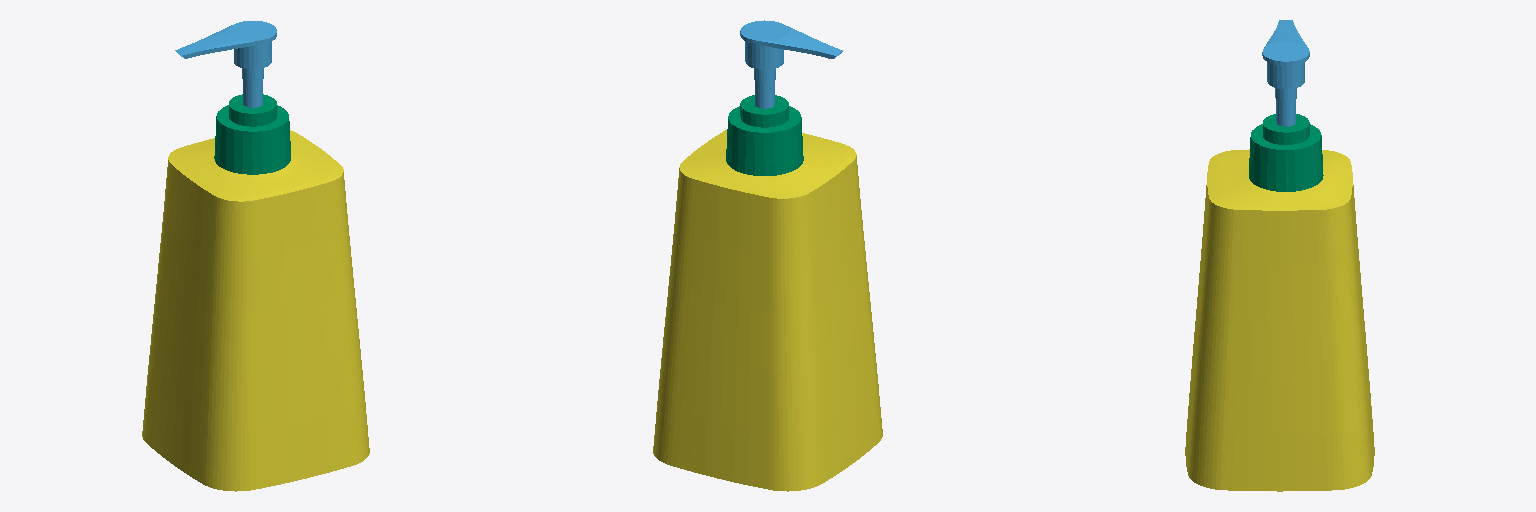
URDF robot description (partnet_2cb950b9-43d6-4d7d-8352-2f70c936dd6a):
<?xml version="1.0" ?>
<robot name="partnet_2cb950b9-43d6-4d7d-8352-2f70c936dd6a">
	<link name="base"/>
	<link name="link_0">
		<visual name="pressing_lid-1">
			<origin xyz="0.013220050530103724 0 0.00017385150868072866"/>
			<geometry>
				<mesh filename="textured_objs/original-12.obj"/>
			</geometry>
		</visual>
		<visual name="pressing_lid-1">
			<origin xyz="0.013220050530103724 0 0.00017385150868072866"/>
			<geometry>
				<mesh filename="textured_objs/original-13.obj"/>
			</geometry>
		</visual>
		<visual name="pressing_lid-1">
			<origin xyz="0.013220050530103724 0 0.00017385150868072866"/>
			<geometry>
				<mesh filename="textured_objs/original-14.obj"/>
			</geometry>
		</visual>
		<visual name="pressing_lid-1">
			<origin xyz="0.013220050530103724 0 0.00017385150868072866"/>
			<geometry>
				<mesh filename="textured_objs/original-15.obj"/>
			</geometry>
		</visual>
		<collision>
			<origin xyz="0.013220050530103724 0 0.00017385150868072866"/>
			<geometry>
				<mesh filename="textured_objs/original-12.obj"/>
			</geometry>
		</collision>
		<collision>
			<origin xyz="0.013220050530103724 0 0.00017385150868072866"/>
			<geometry>
				<mesh filename="textured_objs/original-13.obj"/>
			</geometry>
		</collision>
		<collision>
			<origin xyz="0.013220050530103724 0 0.00017385150868072866"/>
			<geometry>
				<mesh filename="textured_objs/original-14.obj"/>
			</geometry>
		</collision>
		<collision>
			<origin xyz="0.013220050530103724 0 0.00017385150868072866"/>
			<geometry>
				<mesh filename="textured_objs/original-15.obj"/>
			</geometry>
		</collision>
	</link>
	<joint name="joint_0" type="continuous">
		<origin xyz="0.0 0 0.0"/>
		<axis xyz="0 1 0"/>
		<child link="link_0"/>
		<parent link="link_0_helper"/>
	</joint>
	<link name="link_1">
		<visual name="head-6">
			<origin xyz="0.013219967587296749 0 0.00017342195729570277"/>
			<geometry>
				<mesh filename="textured_objs/original-7.obj"/>
			</geometry>
		</visual>
		<visual name="head-6">
			<origin xyz="0.013219967587296749 0 0.00017342195729570277"/>
			<geometry>
				<mesh filename="textured_objs/original-9.obj"/>
			</geometry>
		</visual>
		<visual name="head-6">
			<origin xyz="0.013219967587296749 0 0.00017342195729570277"/>
			<geometry>
				<mesh filename="textured_objs/original-11.obj"/>
			</geometry>
		</visual>
		<visual name="head-6">
			<origin xyz="0.013219967587296749 0 0.00017342195729570277"/>
			<geometry>
				<mesh filename="textured_objs/original-10.obj"/>
			</geometry>
		</visual>
		<collision>
			<origin xyz="0.013219967587296749 0 0.00017342195729570277"/>
			<geometry>
				<mesh filename="textured_objs/original-7.obj"/>
			</geometry>
		</collision>
		<collision>
			<origin xyz="0.013219967587296749 0 0.00017342195729570277"/>
			<geometry>
				<mesh filename="textured_objs/original-9.obj"/>
			</geometry>
		</collision>
		<collision>
			<origin xyz="0.013219967587296749 0 0.00017342195729570277"/>
			<geometry>
				<mesh filename="textured_objs/original-11.obj"/>
			</geometry>
		</collision>
		<collision>
			<origin xyz="0.013219967587296749 0 0.00017342195729570277"/>
			<geometry>
				<mesh filename="textured_objs/original-10.obj"/>
			</geometry>
		</collision>
	</link>
	<joint name="joint_1" type="continuous">
		<origin xyz="0.0 0 0.0"/>
		<axis xyz="0 1 0"/>
		<child link="link_1"/>
		<parent link="link_1_helper"/>
	</joint>
	<link name="link_2">
		<visual name="base_body-7">
			<origin xyz="0 0 0"/>
			<geometry>
				<mesh filename="textured_objs/original-4.obj"/>
			</geometry>
		</visual>
		<visual name="base_body-7">
			<origin xyz="0 0 0"/>
			<geometry>
				<mesh filename="textured_objs/original-3.obj"/>
			</geometry>
		</visual>
		<visual name="base_body-7">
			<origin xyz="0 0 0"/>
			<geometry>
				<mesh filename="textured_objs/original-2.obj"/>
			</geometry>
		</visual>
		<visual name="base_body-7">
			<origin xyz="0 0 0"/>
			<geometry>
				<mesh filename="textured_objs/original-5.obj"/>
			</geometry>
		</visual>
		<visual name="base_body-7">
			<origin xyz="0 0 0"/>
			<geometry>
				<mesh filename="textured_objs/original-6.obj"/>
			</geometry>
		</visual>
		<visual name="base_body-7">
			<origin xyz="0 0 0"/>
			<geometry>
				<mesh filename="textured_objs/original-1.obj"/>
			</geometry>
		</visual>
		<collision>
			<origin xyz="0 0 0"/>
			<geometry>
				<mesh filename="textured_objs/original-4.obj"/>
			</geometry>
		</collision>
		<collision>
			<origin xyz="0 0 0"/>
			<geometry>
				<mesh filename="textured_objs/original-3.obj"/>
			</geometry>
		</collision>
		<collision>
			<origin xyz="0 0 0"/>
			<geometry>
				<mesh filename="textured_objs/original-2.obj"/>
			</geometry>
		</collision>
		<collision>
			<origin xyz="0 0 0"/>
			<geometry>
				<mesh filename="textured_objs/original-5.obj"/>
			</geometry>
		</collision>
		<collision>
			<origin xyz="0 0 0"/>
			<geometry>
				<mesh filename="textured_objs/original-6.obj"/>
			</geometry>
		</collision>
		<collision>
			<origin xyz="0 0 0"/>
			<geometry>
				<mesh filename="textured_objs/original-1.obj"/>
			</geometry>
		</collision>
	</link>
	<joint name="joint_2" type="fixed">
		<origin rpy="1.570796326794897 0 -1.570796326794897" xyz="0 0 0"/>
		<child link="link_2"/>
		<parent link="base"/>
	</joint>
	<link name="link_0_helper"/>
	<joint name="joint_3" type="prismatic">
		<origin xyz="-8.294280697505874e-08 0 -4.295513850258864e-07"/>
		<axis xyz="0 -1 0"/>
		<child link="link_0_helper"/>
		<parent link="link_1"/>
		<limit lower="0" upper="0.1"/>
	</joint>
	<link name="link_1_helper"/>
	<joint name="joint_4" type="prismatic">
		<origin xyz="-0.013219967587296749 0 -0.00017342195729570277"/>
		<axis xyz="0 1 0"/>
		<child link="link_1_helper"/>
		<parent link="link_2"/>
		<limit lower="0" upper="0.01"/>
	</joint>
</robot>

--- Facts derived from the render (not from the file) ---
Views: 3 orthographic renders of the robot side by side, from view 1: azimuth 30°, elevation 25°; view 2: azimuth 150°, elevation 25°; view 3: azimuth 270°, elevation 25°.
Robot: partnet_2cb950b9-43d6-4d7d-8352-2f70c936dd6a — 6 links, 5 joints (2 continuous, 2 prismatic, 1 fixed); root link base; default pose: every joint at zero.
Visible links, largest first — view 1: link_2, link_1, link_0; view 2: link_2, link_1, link_0; view 3: link_2, link_1, link_0.
Link boxes in pixels (bbox=[...]): link_2: bbox=[142, 130, 369, 491]; link_1: bbox=[214, 94, 290, 174]; link_0: bbox=[175, 21, 276, 107]; link_2: bbox=[653, 130, 882, 491]; link_1: bbox=[726, 95, 803, 175]; link_0: bbox=[740, 20, 842, 108]; link_2: bbox=[1185, 149, 1374, 491]; link_1: bbox=[1249, 114, 1323, 191]; link_0: bbox=[1262, 20, 1309, 126].
Bounding box of the posed robot: 0.6775 × 0.6775 × 1.58 m (x, y, z).
14 mesh visuals loaded from 14 distinct referenced files (14 OBJ).